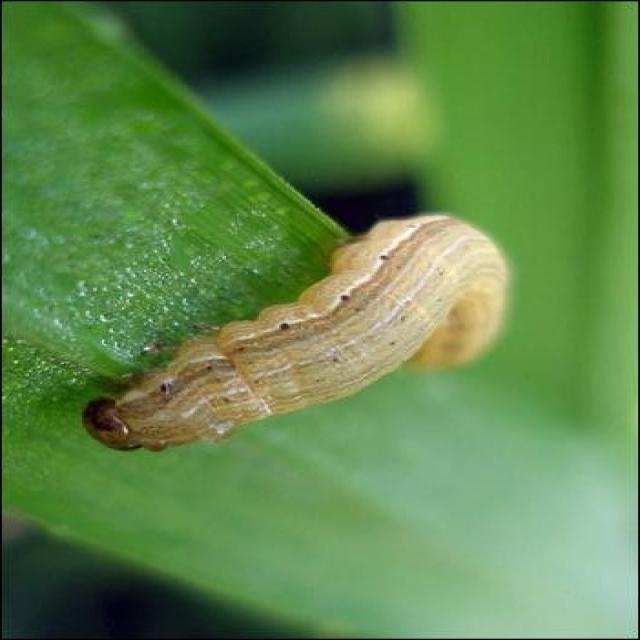army worm: (79, 211, 521, 463)
